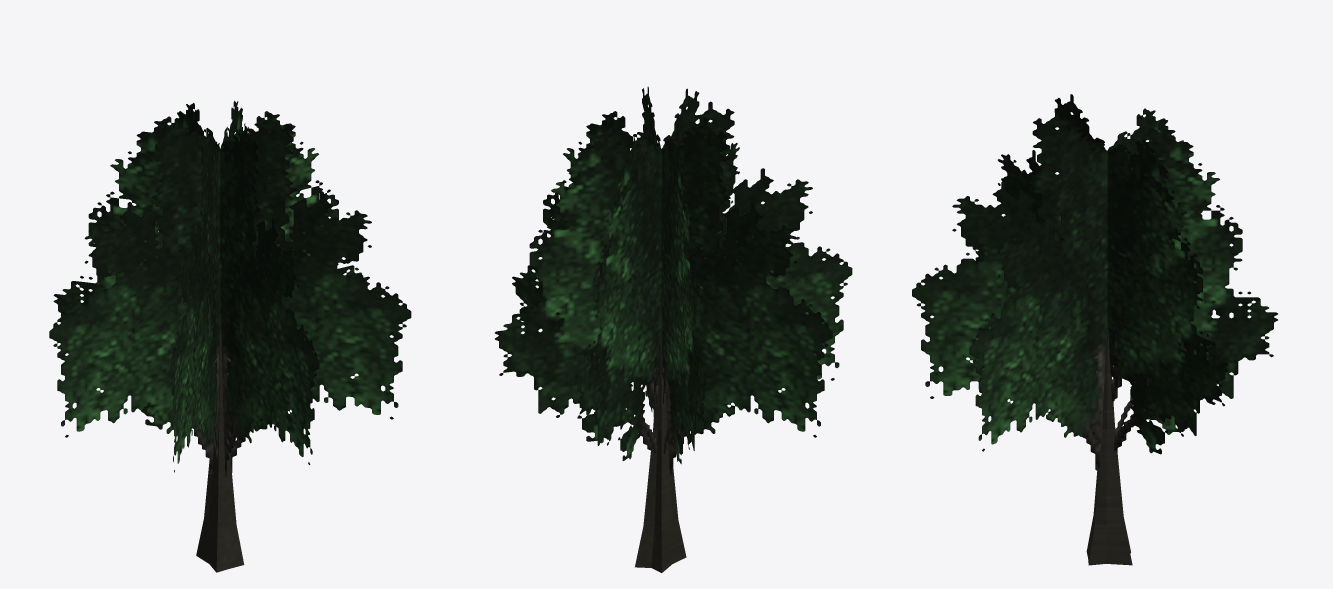
File: Tree.fbx
3 renders of one model, left to right at view 1: azimuth 30°, elevation 25°; view 2: azimuth 150°, elevation 25°; view 3: azimuth 270°, elevation 25°, orthographic.
Visible parts, largest first — view 1: pohon; view 2: pohon; view 3: pohon.
Boxes of the visible parts, <box> form: pohon: <box>49,100,411,572</box>; pohon: <box>495,86,852,572</box>; pohon: <box>912,94,1277,565</box>.
Bounding box in the file's own units: 1044 × 1242 × 1044.
Materials: 1 (1 with a texture image).
